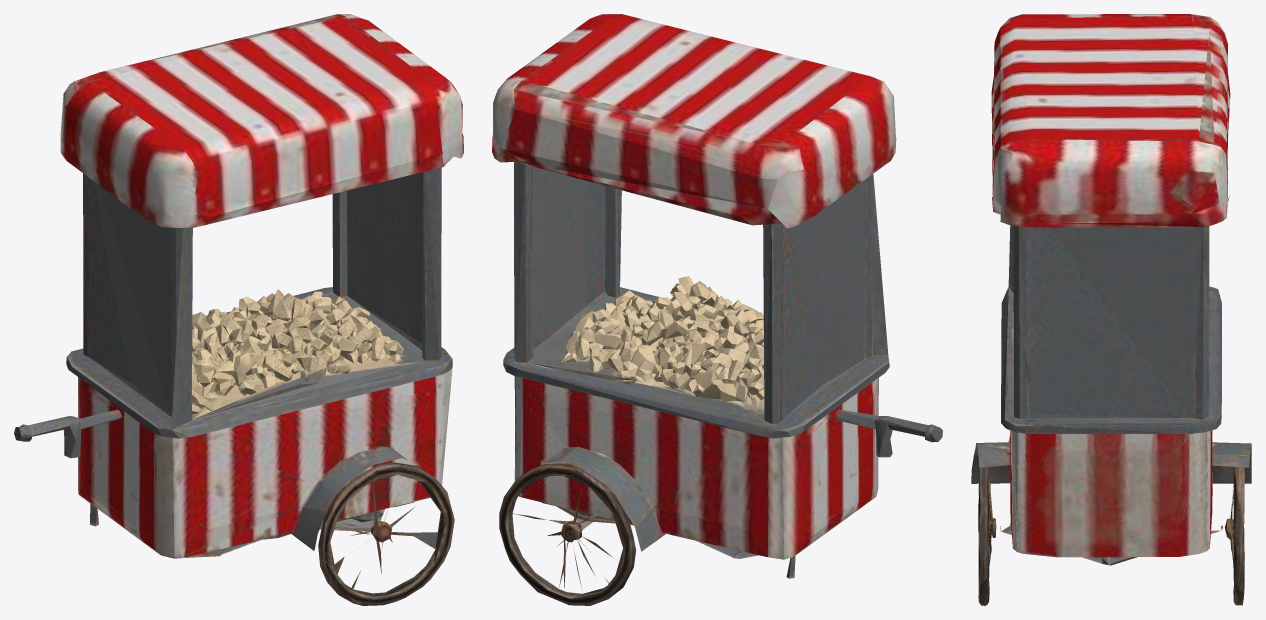
Rendered from carrocinha_pipoca.glb.
The picture shows the model from 3 angles, left to right: view 1: azimuth 30°, elevation 25°; view 2: azimuth 150°, elevation 25°; view 3: azimuth 270°, elevation 25°; orthographic projection.
Size of the model in its own units: 1.63 by 1.9 by 0.9877.
Materials: 1 (1 with a texture image).
